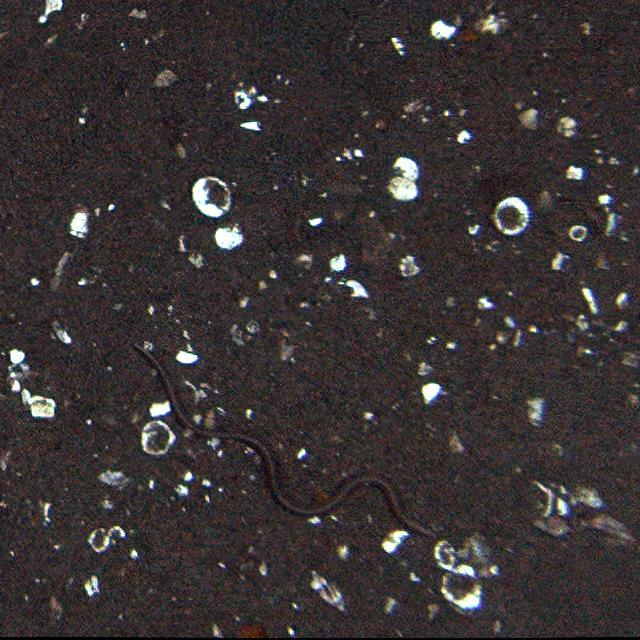eel: (133, 343, 439, 546)
